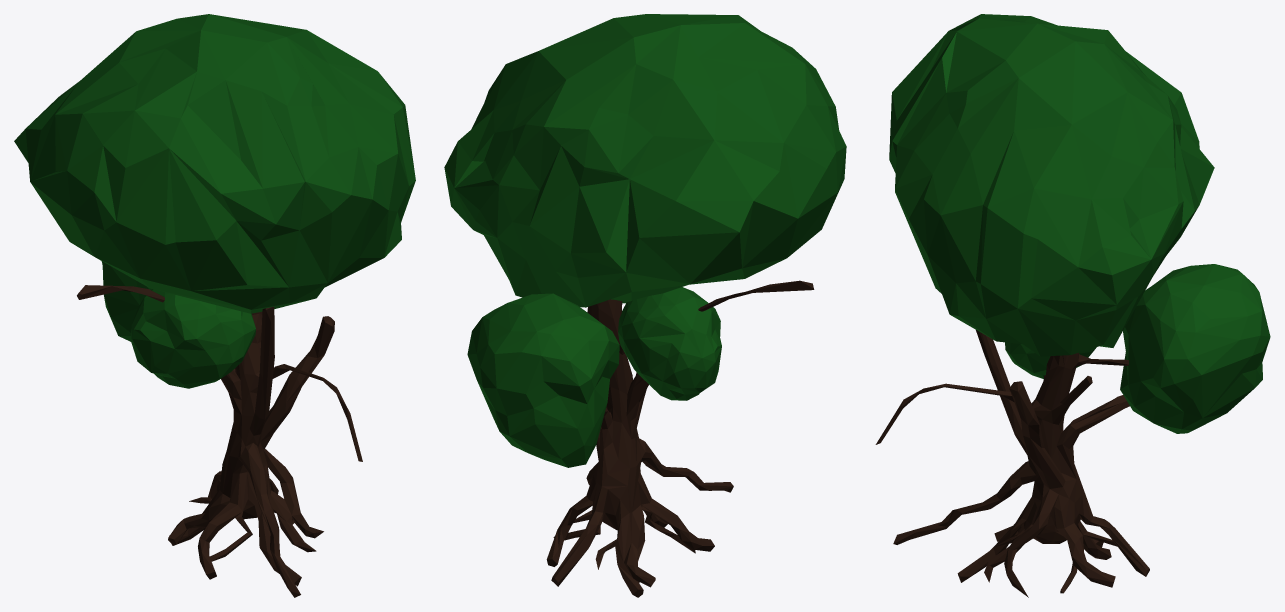
File: SM_tree_24.fbx
3 renders of one model, left to right at view 1: azimuth 30°, elevation 25°; view 2: azimuth 150°, elevation 25°; view 3: azimuth 270°, elevation 25°, orthographic. The views are drawn at different scales.
Parts seen in each view (by area): view 1: tree_24; view 2: tree_24; view 3: tree_24.
Part boxes in pixels (x1,y1,x2,y2): tree_24: [14, 14, 415, 597]; tree_24: [444, 14, 846, 597]; tree_24: [875, 14, 1270, 597].
Size of the model in its own units: 633 by 953 by 641.
